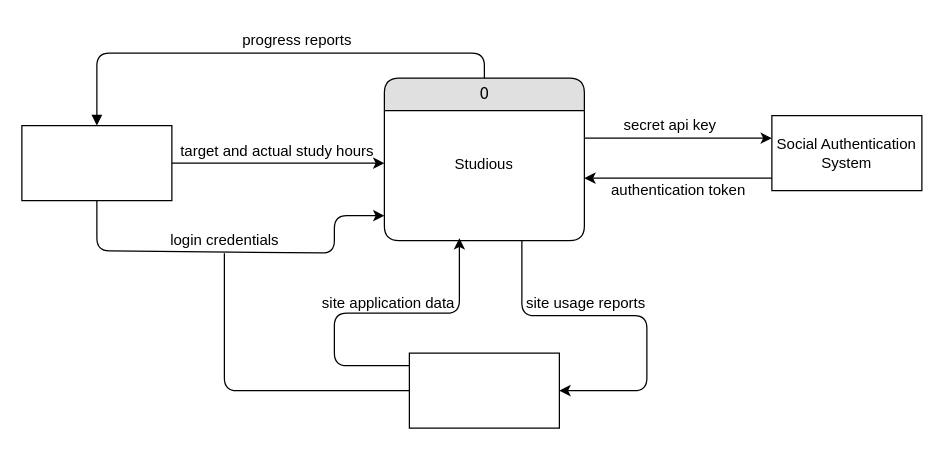
Image size: 944x450. Some labels were removed from this diagram. Here are the shapes that lost their labels. From the top down, the centre of each, then its label:
[96,162]: Student
[483,390]: Site Admin
